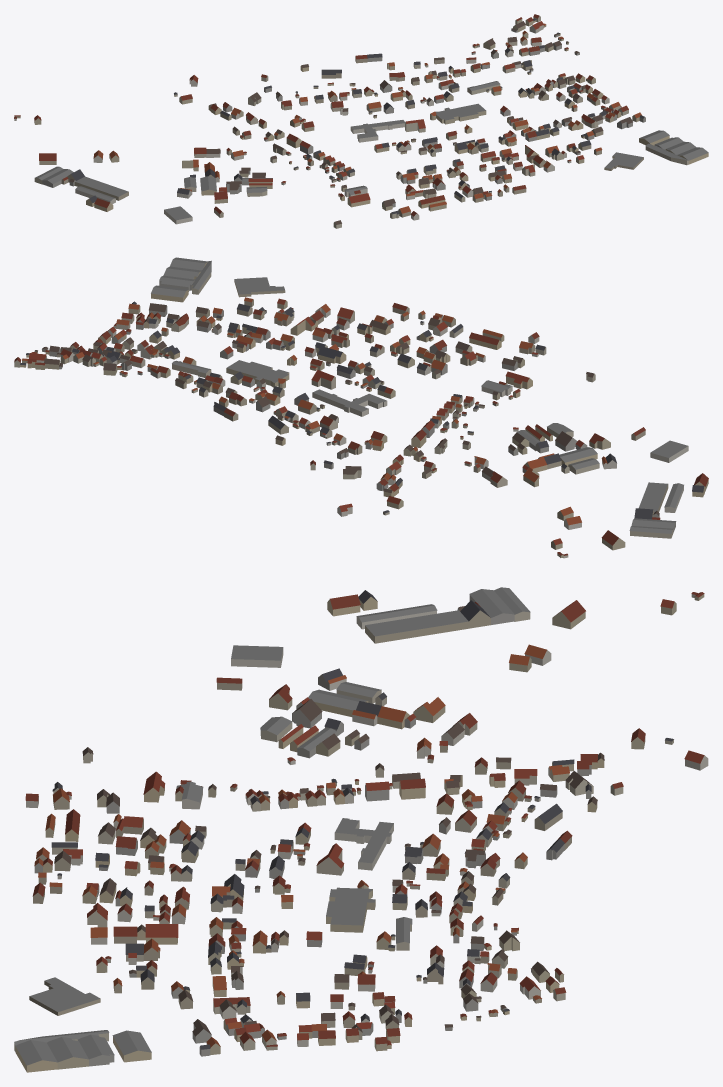
The picture shows the model from 3 angles, top to bottom: view 1: azimuth 30°, elevation 25°; view 2: azimuth 150°, elevation 25°; view 3: azimuth 270°, elevation 25°; orthographic projection. The views are drawn at different scales.
Visible parts, largest first — view 1: buildings; view 2: buildings; view 3: buildings.
Part boxes in pixels (left/top/right/bottom): buildings: left=14, top=14, right=708, bottom=228; buildings: left=14, top=257, right=708, bottom=558; buildings: left=14, top=587, right=708, bottom=1072.
Bounding box in the file's own units: 829 × 57.21 × 522.
